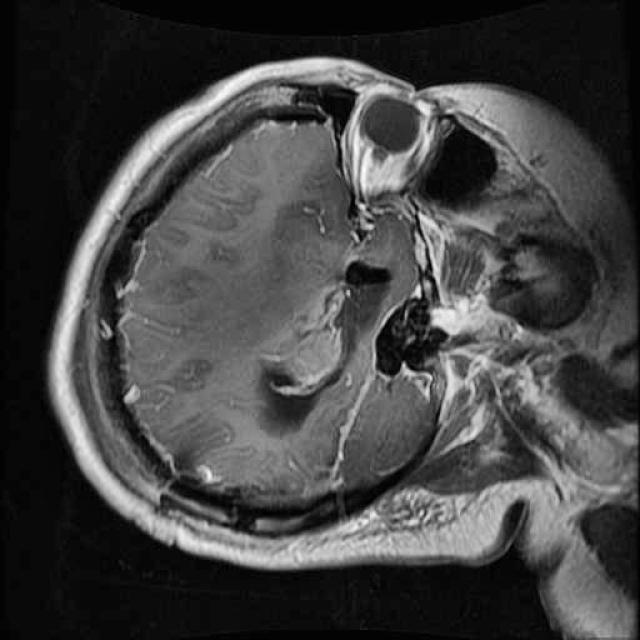Non-Tumor: (239, 234, 409, 444)
